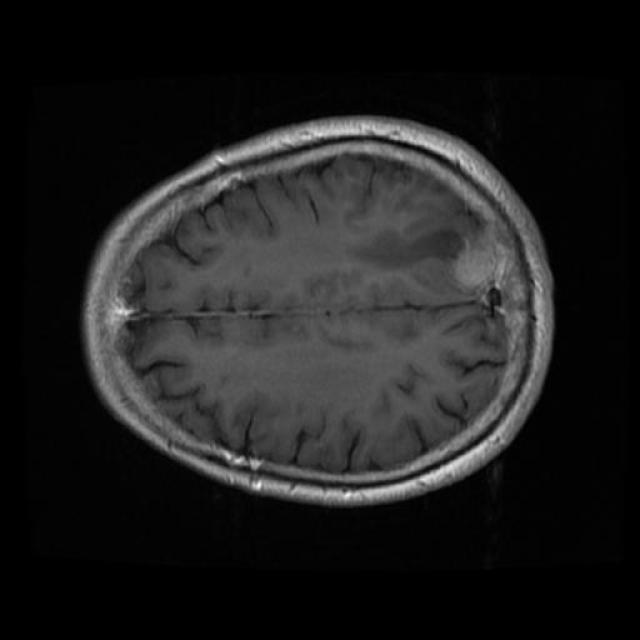Meningioma: (453, 223, 511, 303)
